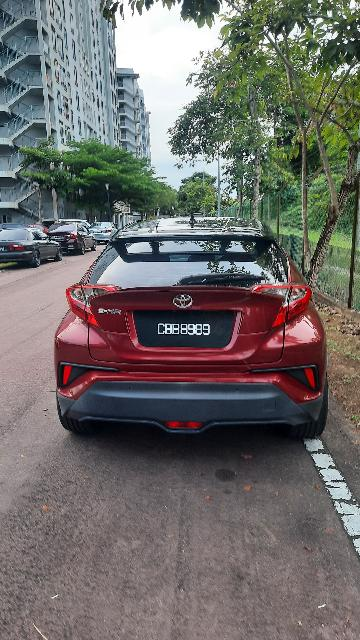License_Plate: (131, 303, 242, 351)
car: (46, 206, 334, 449)
